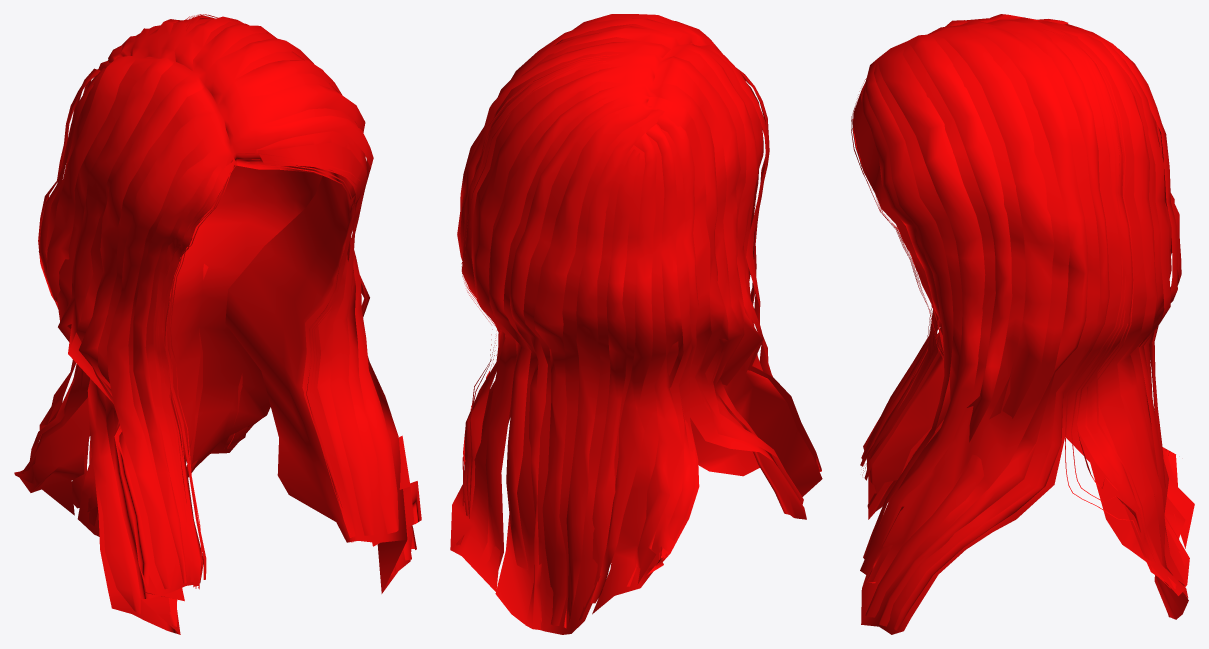
Rendered from culturalibre_hair_01_F.glb.
The picture shows the model from 3 angles, left to right: view 1: azimuth 30°, elevation 25°; view 2: azimuth 150°, elevation 25°; view 3: azimuth 270°, elevation 25°; orthographic projection. The views are drawn at different scales.
Bounding box in the file's own units: 0.2354 × 0.4302 × 0.2282.
Materials: 1 (1 with a texture image).
